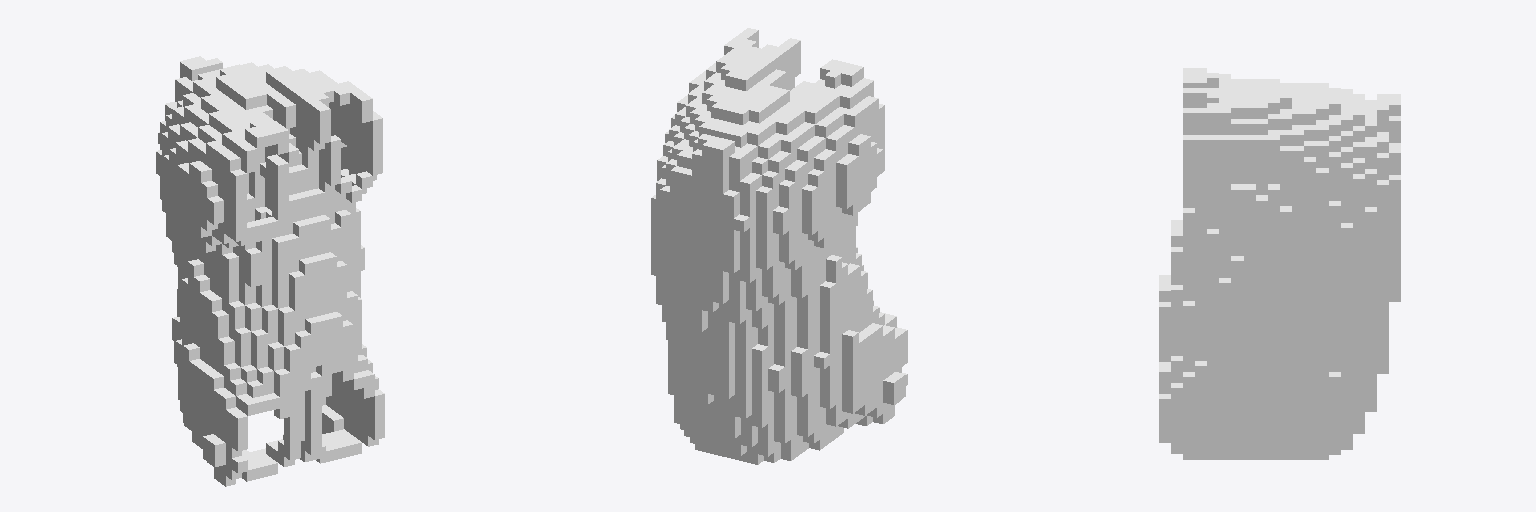
The model's file is blackbeartorso.obj.
The picture shows the model from 3 angles: view 1: azimuth 30°, elevation 25°; view 2: azimuth 150°, elevation 25°; view 3: azimuth 270°, elevation 25°; orthographic projection.
Parts seen in each view (by area): view 1: blackbear.001; view 2: blackbear.001; view 3: blackbear.001.
Part boxes in pixels (x1,y1,x2,y2): blackbear.001: (156, 56, 384, 486); blackbear.001: (651, 28, 907, 464); blackbear.001: (1159, 68, 1400, 459).
Size of the model in its own units: 17 by 32 by 20.